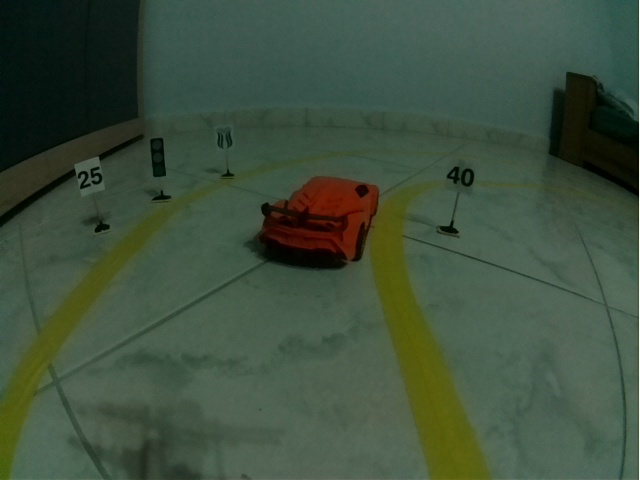Green Traffic Light: (149, 137, 167, 178)
Lambo: (258, 175, 379, 270)
Speed Limit 25: (74, 156, 106, 198)
Speed Limit 40: (442, 157, 477, 197)
Subu: (213, 123, 236, 153)
